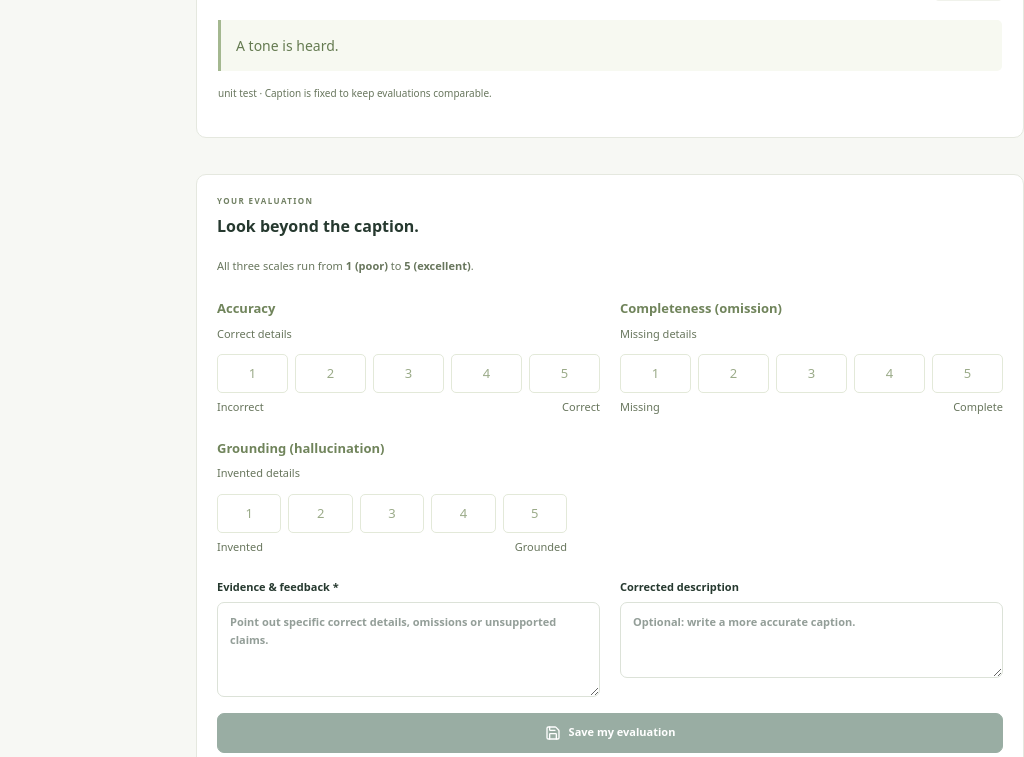
Test: Caption evaluation interactions › requires all three scores and written feedback before committing the human evaluation
The image size is (1024, 757).
(page scrolled)
Expected: the text "A tone is heard." is shown, [218,20,1002,71]
Expected: the button "Save my evaluation" is disabled, [217,713,1003,753]
Click the button named "Accuracy: 5".
click(564, 374)  # box [529,354,600,393]
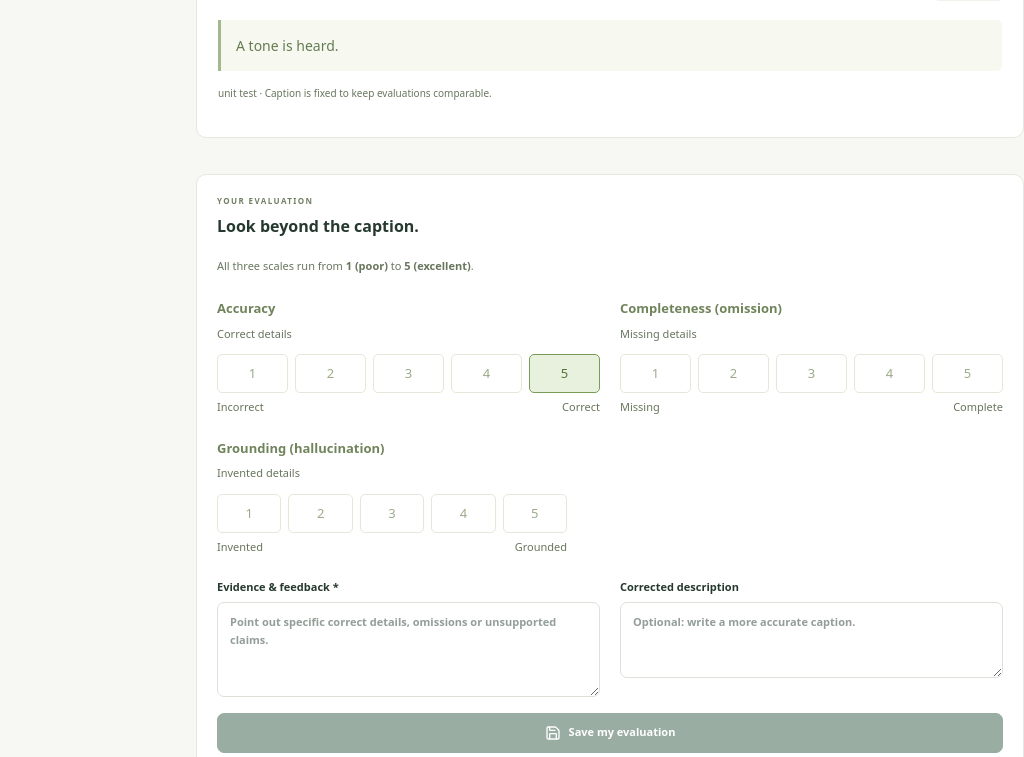
Click the button named "Completeness (omission): 4".
click(890, 374)  # box [854,354,925,393]
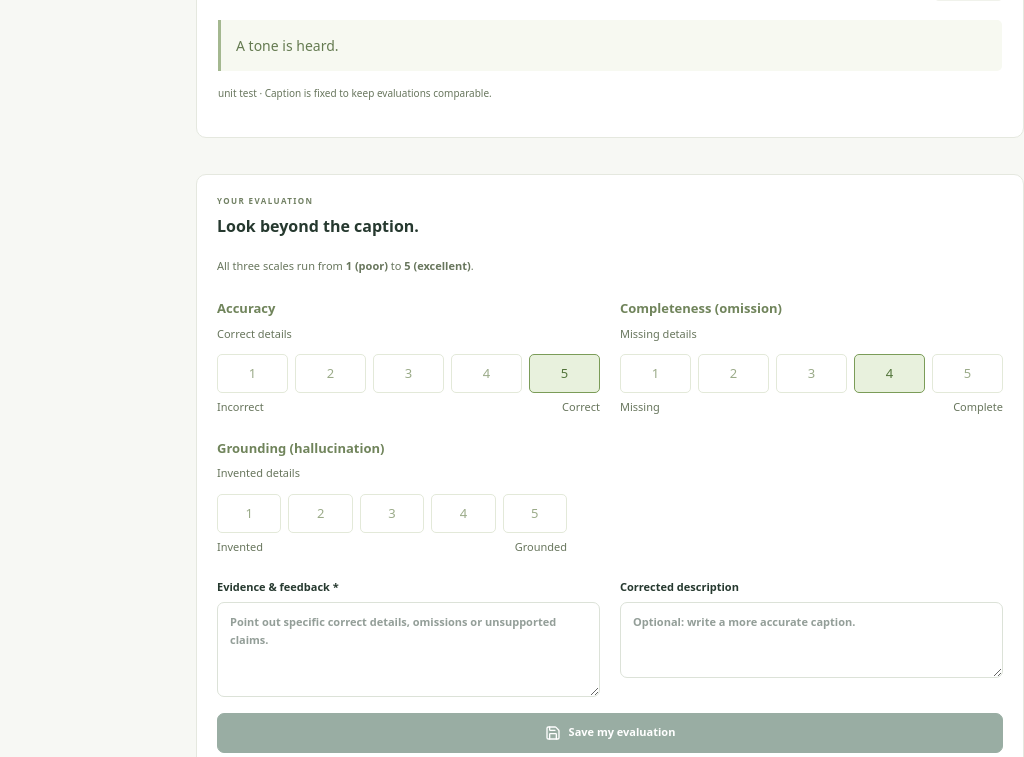
Click the button named "Grounding (hallucination): 5".
click(535, 513)  # box [503,494,567,533]
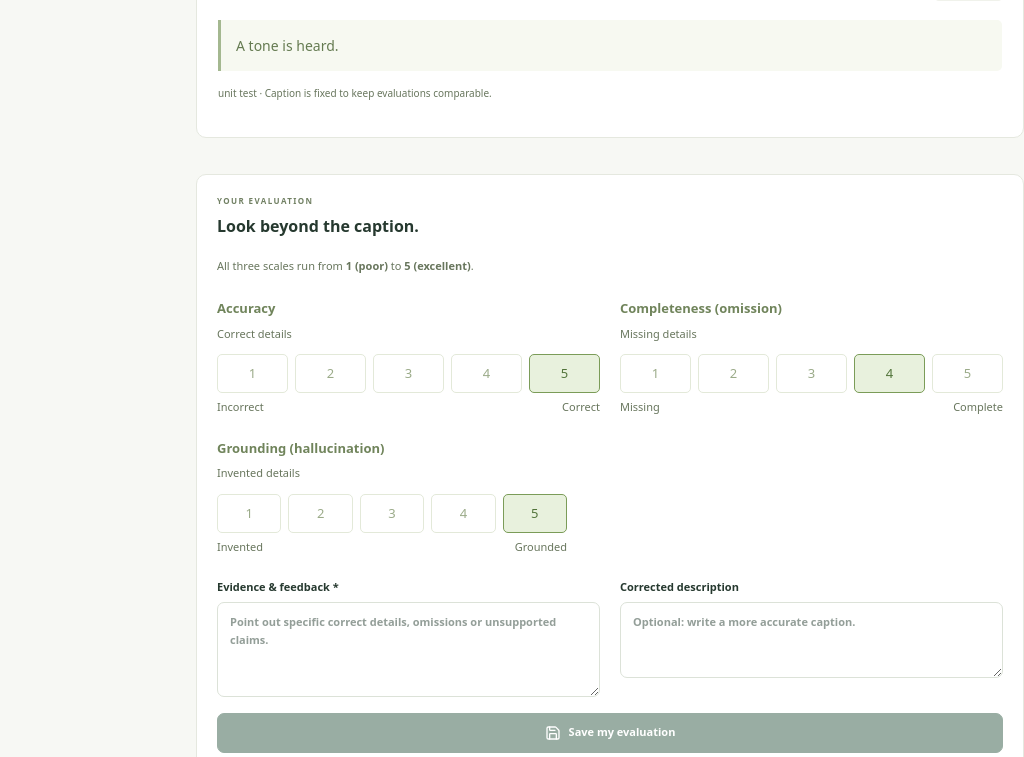
Replace the text in the text box labelled "Evidence & feedback *" with "The tone is described accurately, but a pause is omitted." at (408, 649), box [217,602,600,697]
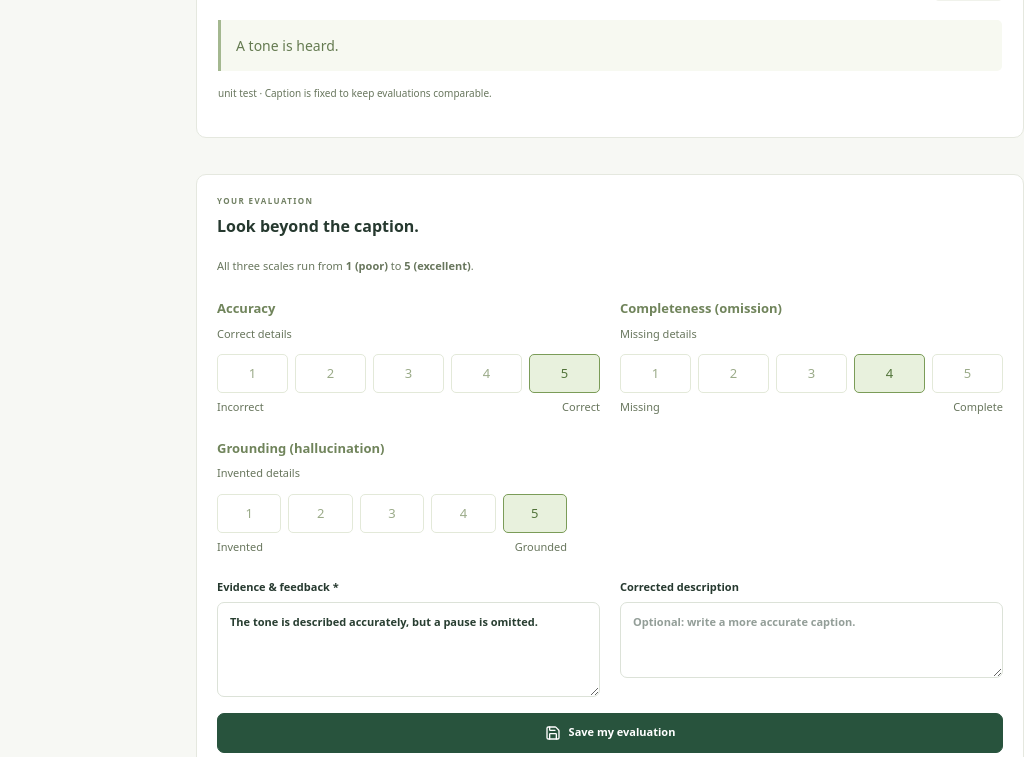
Click the button "Save my evaluation".
click(610, 733)  # box [217,713,1003,753]
(page scrolled)
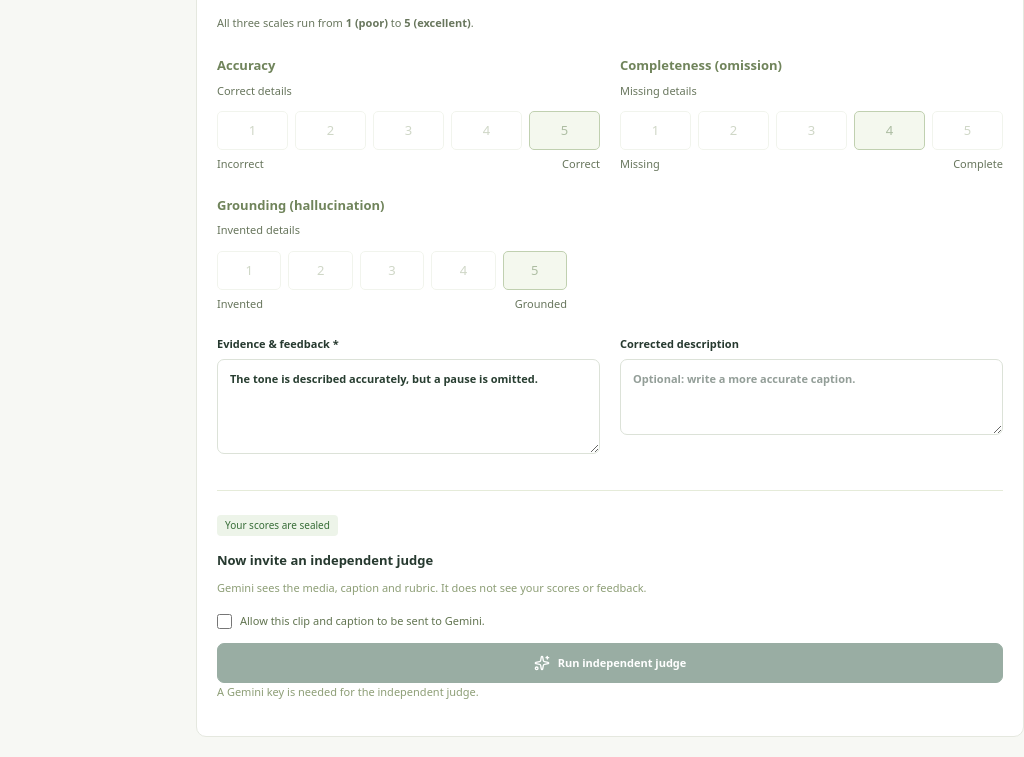
Expected: the text "Your scores are sealed" is shown, [217,515,338,536]
Expected: the button "Run independent judge" is disabled, [217,643,1003,683]
